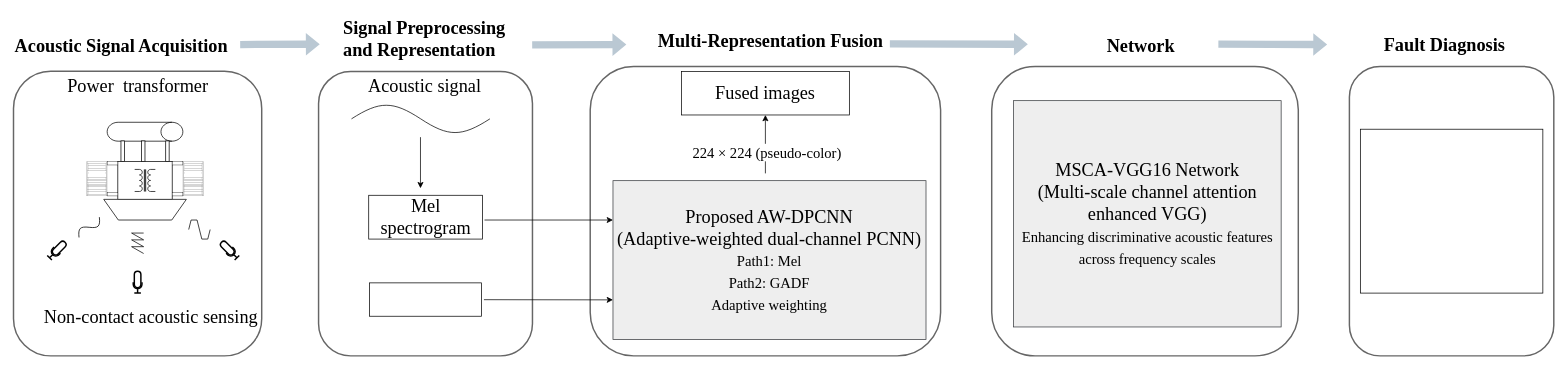
Some shapes in this 1567 by 369 pixel diagram are drawn without their labels. The shapes that lost their labels are listed below. From the top down, each one's centre as x and y in pixels, then its label:
(x=1451, y=210): Fault types Looseness Normal 10kv Overload Harmonic distortion Partial Discharge
(x=425, y=299): GADF images
